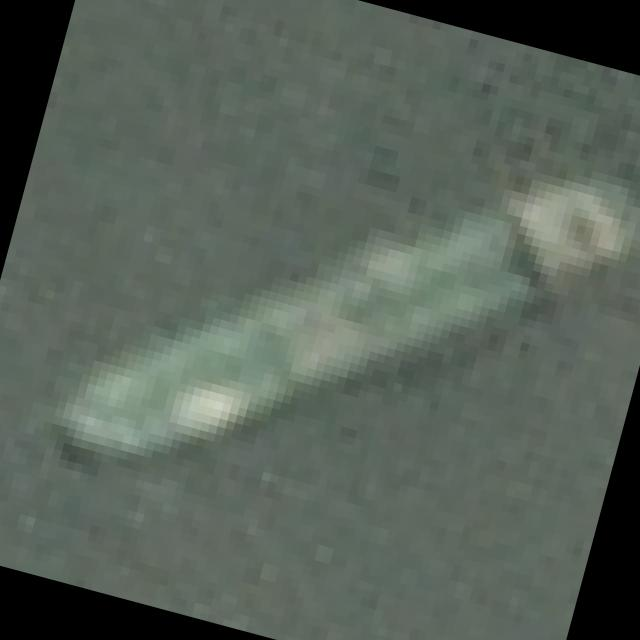ship: (20, 35, 640, 607)
